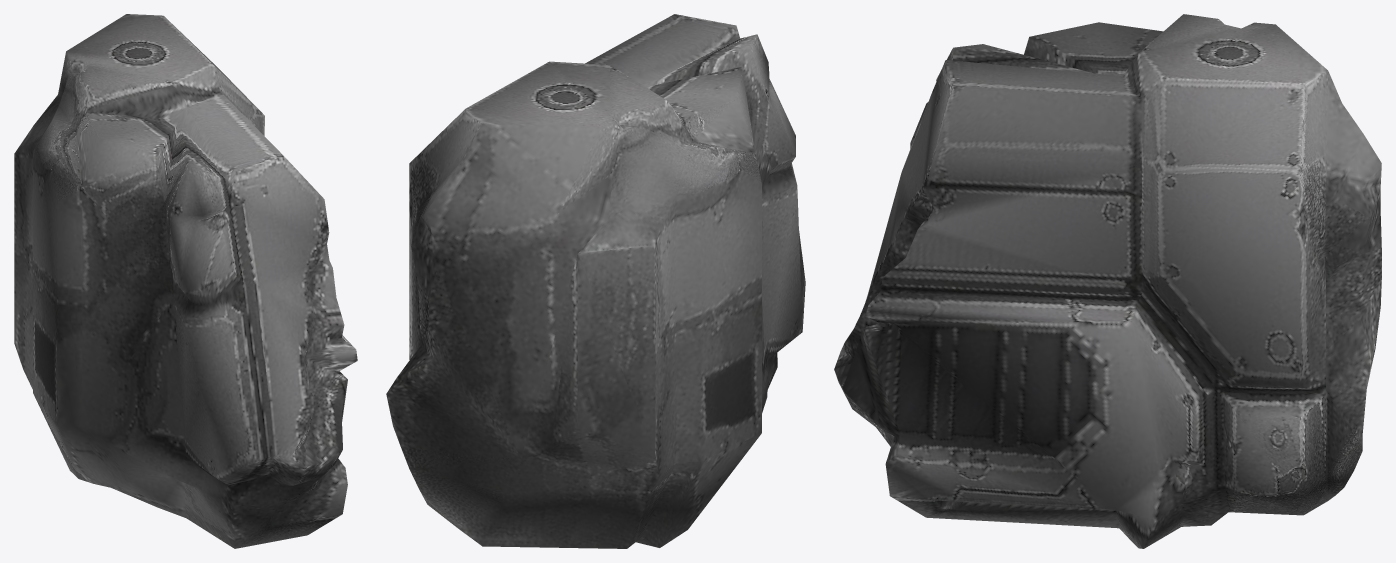
File: crate_debris.glb
3 views of the same model, side by side, from view 1: azimuth 30°, elevation 25°; view 2: azimuth 150°, elevation 25°; view 3: azimuth 270°, elevation 25° (orthographic). The views are drawn at different scales.
Parts seen in each view (by area): view 1: tripo_node_b307a4ee-0a20-421d-93a8-b09184a6a66b; view 2: tripo_node_b307a4ee-0a20-421d-93a8-b09184a6a66b; view 3: tripo_node_b307a4ee-0a20-421d-93a8-b09184a6a66b.
Boxes of the visible parts, x1=… form: tripo_node_b307a4ee-0a20-421d-93a8-b09184a6a66b: x1=14, y1=14, x2=357, y2=548; tripo_node_b307a4ee-0a20-421d-93a8-b09184a6a66b: x1=386, y1=14, x2=805, y2=548; tripo_node_b307a4ee-0a20-421d-93a8-b09184a6a66b: x1=834, y1=14, x2=1381, y2=548.
Bounding box in the file's own units: 0.5684 × 0.916 × 0.998.
Materials: 1 (1 with a texture image).
